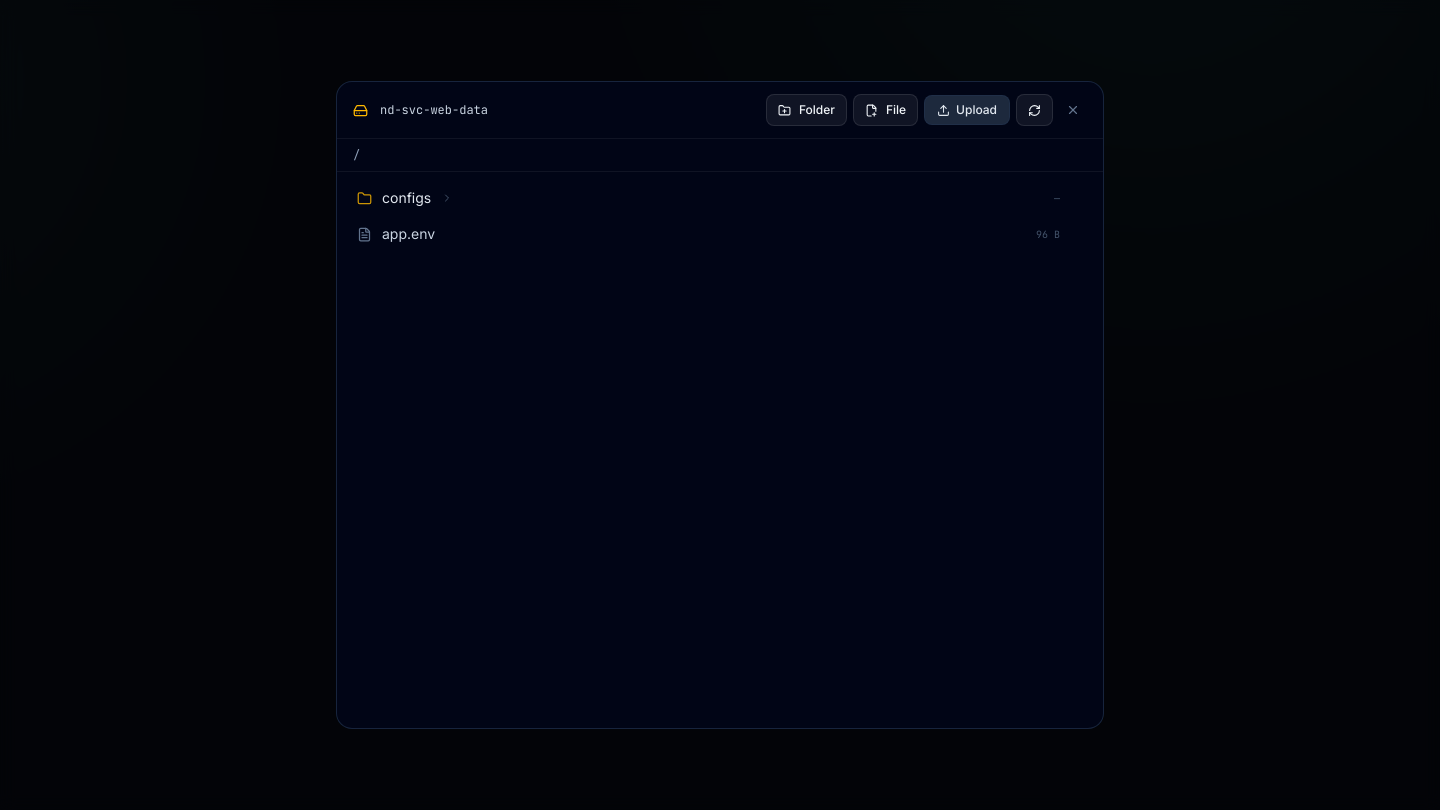
Test: VolumeBrowser › handles utf8-encoded reads
The width and height of the screenshot is (1440, 810).
What coordinates should you click on to do the following:
click the button "app.env"
I would click on:
 (409, 234)
Its box is [357,224,1026,244].
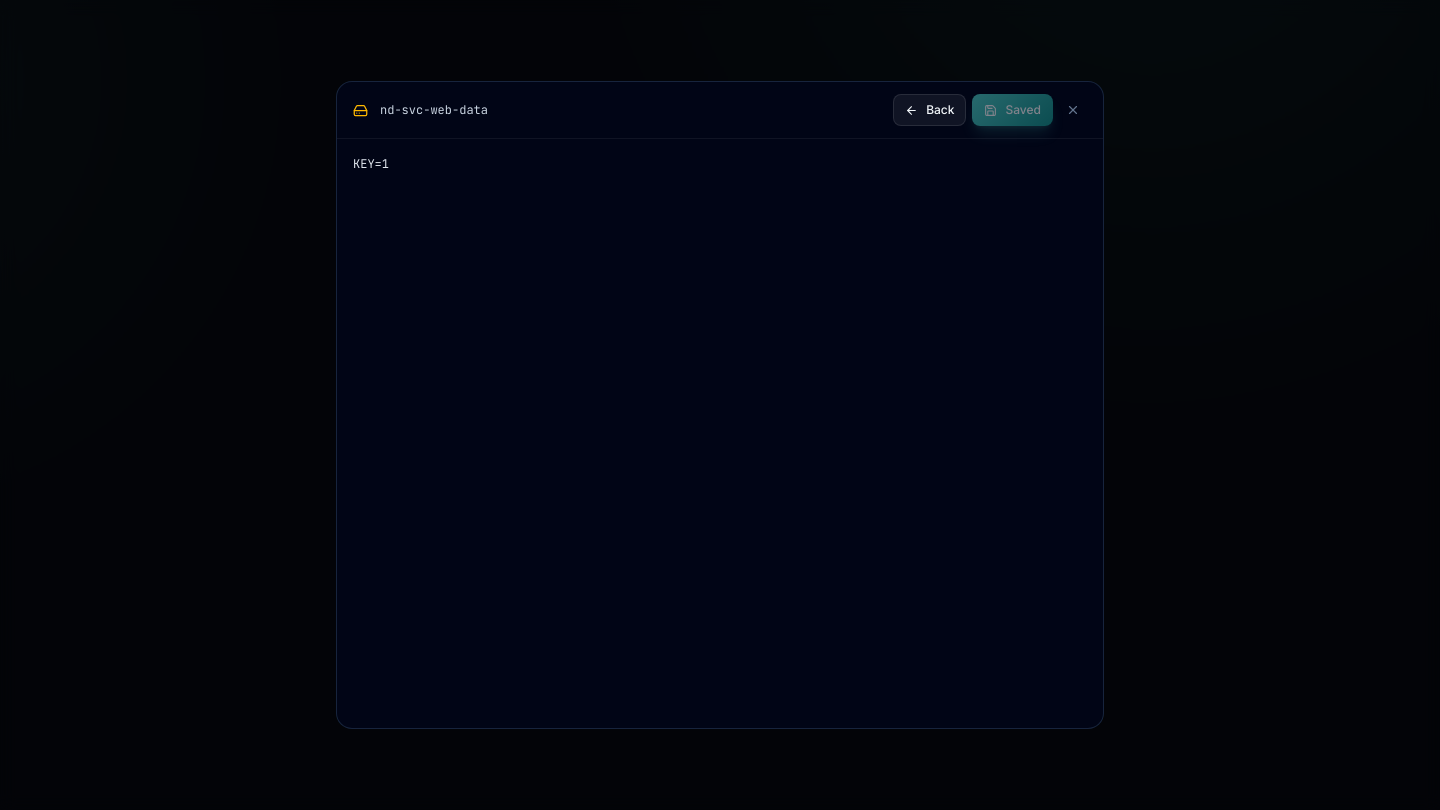
Expected: the text box named "File editor" holds "KEY=1", [337,139,1103,728]
